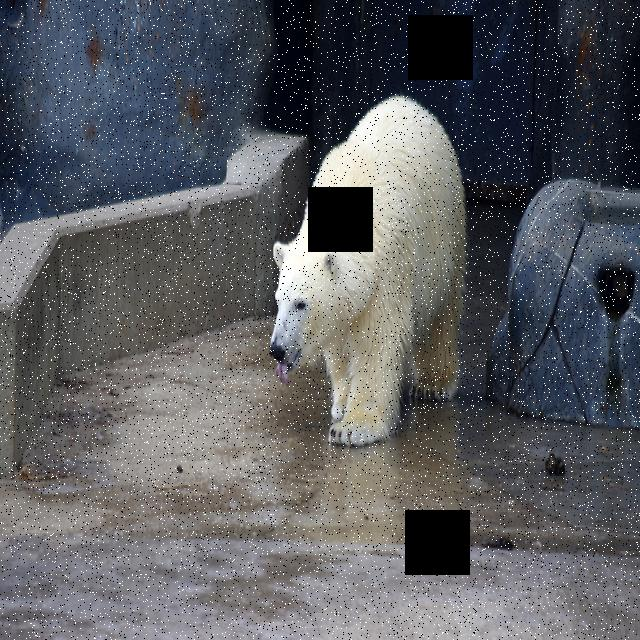Bear: (272, 91, 466, 450)
